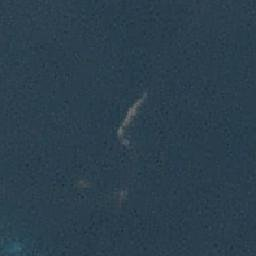debris: (124, 107, 135, 123), (117, 190, 128, 206), (114, 125, 124, 140), (78, 179, 91, 190), (135, 95, 147, 105), (120, 140, 128, 151)
